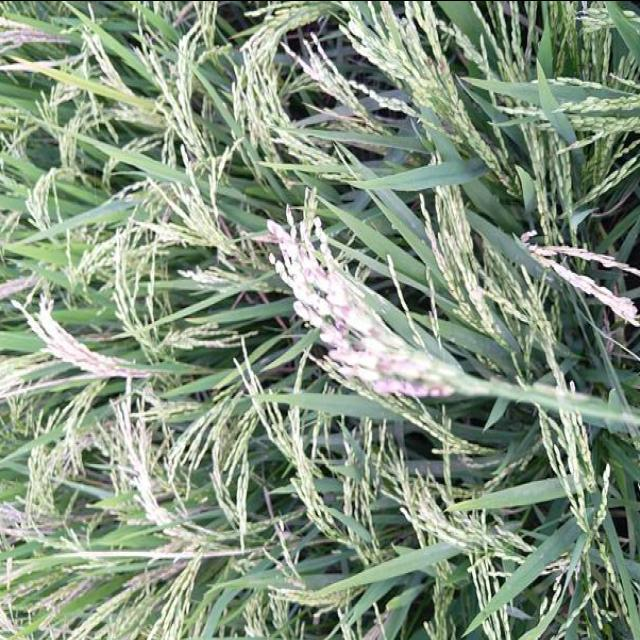Panicle Blight: (375, 379, 450, 396), (333, 304, 351, 331), (264, 221, 282, 242), (439, 118, 459, 136), (304, 266, 327, 280), (330, 345, 351, 360), (366, 327, 385, 340), (420, 57, 434, 74), (377, 360, 392, 372), (438, 57, 445, 75), (321, 323, 329, 330)
